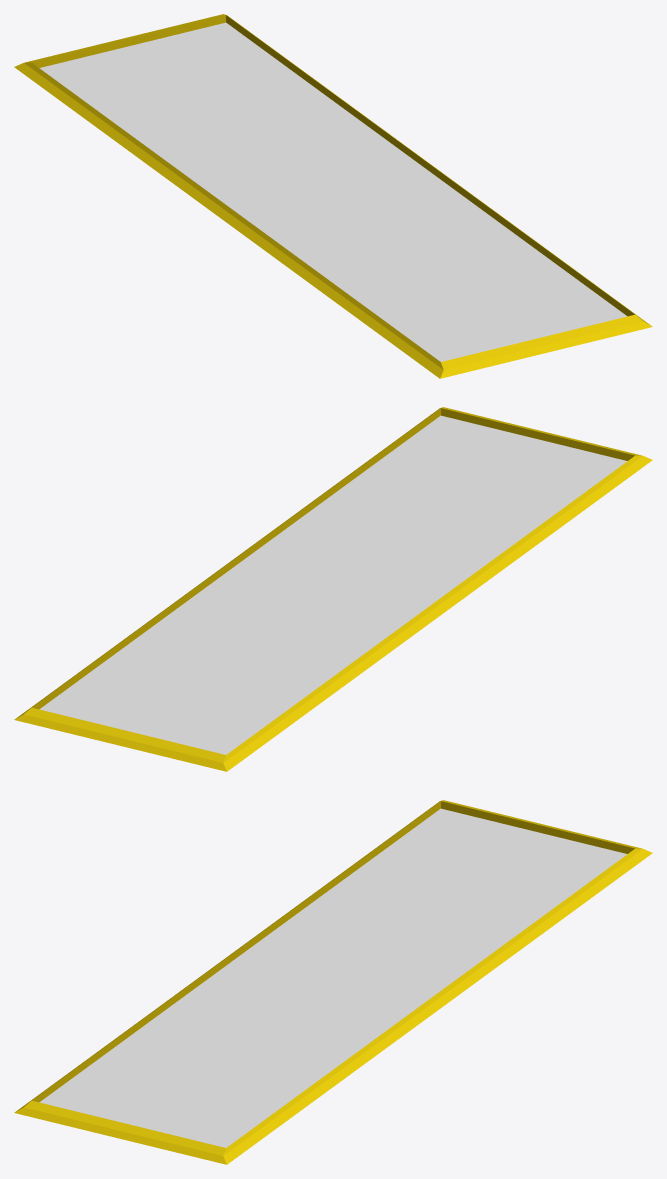
Rendered from Long Painting.fbx.
3 views of the same model, one above another, from view 1: azimuth 30°, elevation 25°; view 2: azimuth 150°, elevation 25°; view 3: azimuth 330°, elevation 25° (orthographic).
Visible parts, largest first — view 1: Cube.001; view 2: Cube.001; view 3: Cube.001.
Part boxes in pixels (x1,y1,x2,y2): Cube.001: (14, 14, 652, 378); Cube.001: (14, 407, 652, 771); Cube.001: (14, 800, 652, 1164).
Bounding box in the file's own units: 2028 × 76.56 × 7028.
